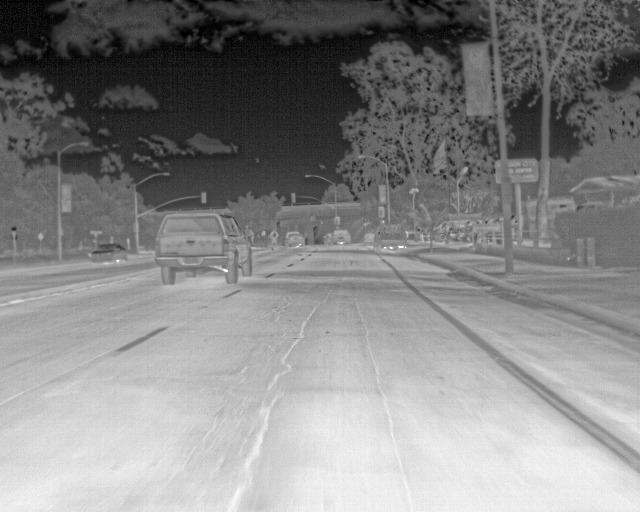car: (155, 213, 252, 285), (374, 224, 407, 250), (433, 220, 473, 241), (91, 243, 128, 264), (333, 230, 351, 244), (288, 234, 305, 247), (285, 232, 300, 246), (364, 233, 375, 246), (323, 233, 333, 244)
light: (379, 207, 384, 217), (134, 223, 139, 232), (202, 193, 206, 203), (291, 194, 295, 202)
sign: (496, 160, 537, 182), (61, 186, 71, 211), (379, 185, 386, 204), (10, 227, 18, 240), (270, 231, 278, 239), (37, 233, 44, 241), (335, 217, 340, 225), (90, 231, 102, 234)
